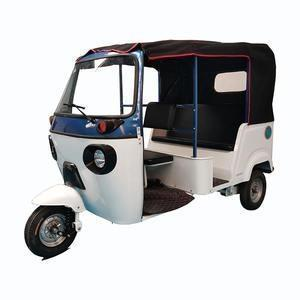keke: (23, 37, 276, 261)
